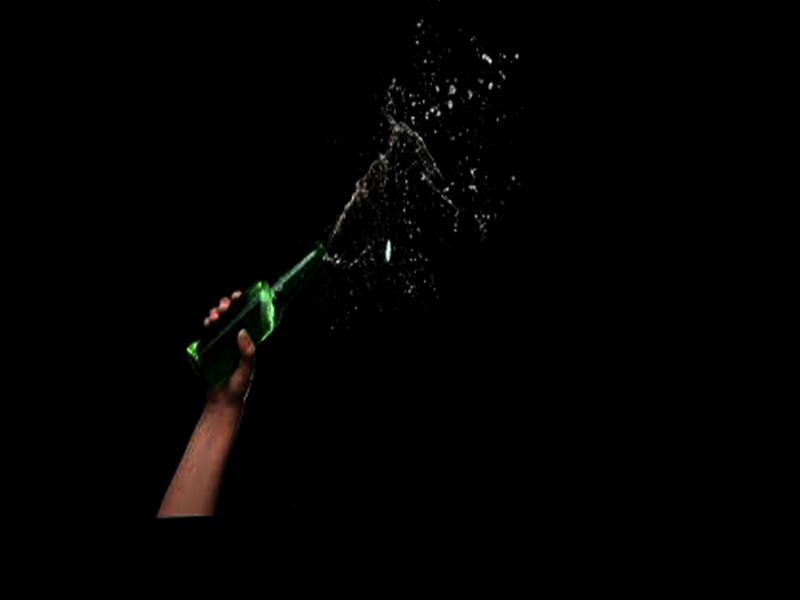Beer: (182, 242, 328, 395)
